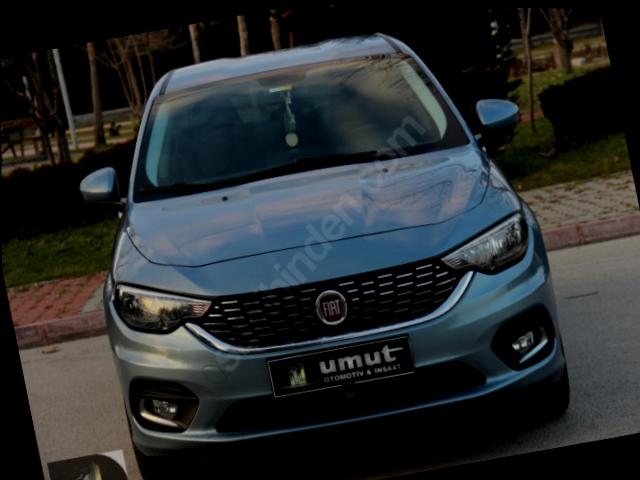plaka: (267, 336, 414, 397)
